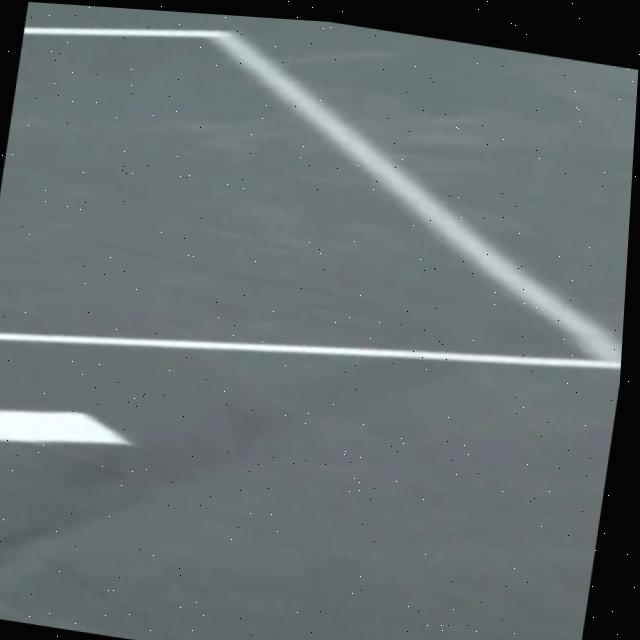center: (0, 409, 129, 443)
